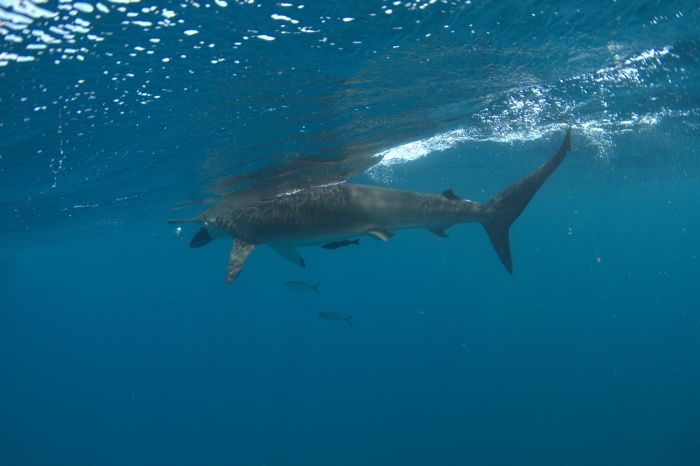Hammer: (159, 107, 619, 305)
